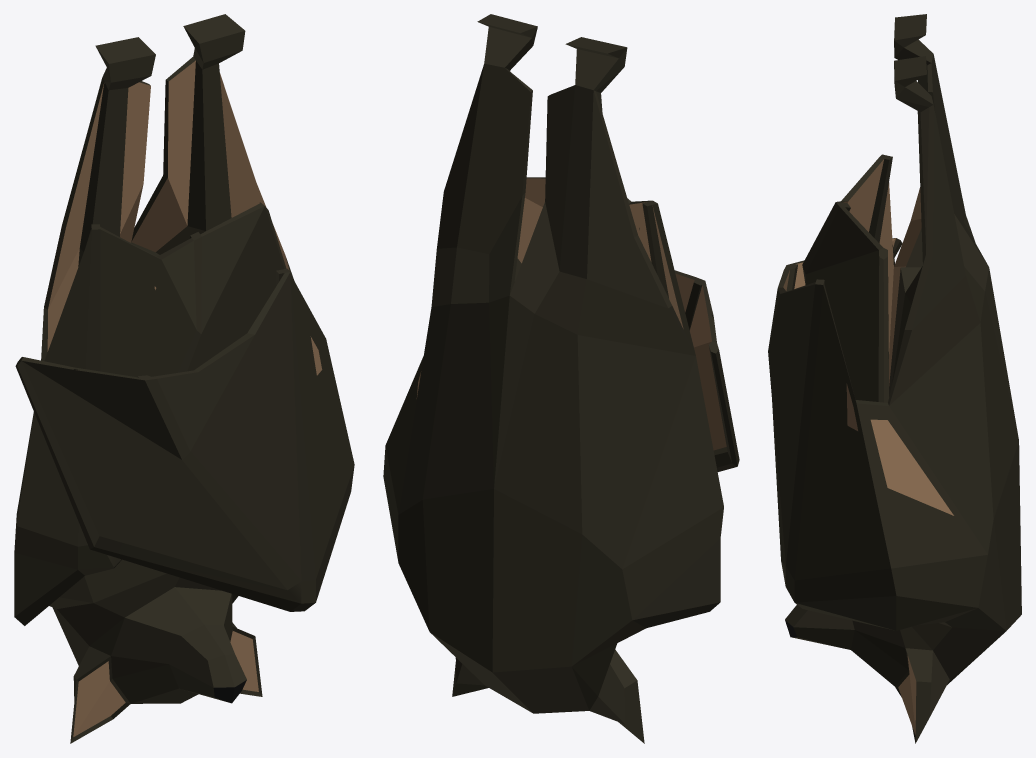
File: Model_Ookoumori_hanetoji.fbx
The picture shows the model from 3 angles, left to right: view 1: azimuth 30°, elevation 25°; view 2: azimuth 150°, elevation 25°; view 3: azimuth 270°, elevation 25°; orthographic projection. The views are drawn at different scales.
Parts seen in each view (by area): view 1: Ookoumori_hanetoji; view 2: Ookoumori_hanetoji; view 3: Ookoumori_hanetoji.
Boxes of the visible parts, <box> form: Ookoumori_hanetoji: <box>14,14,354,743</box>; Ookoumori_hanetoji: <box>383,14,739,743</box>; Ookoumori_hanetoji: <box>768,14,1021,743</box>.
Size of the model in its own units: 51.44 by 99.73 by 35.05.
